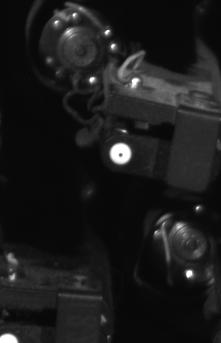fiber: (106, 139, 136, 170)
